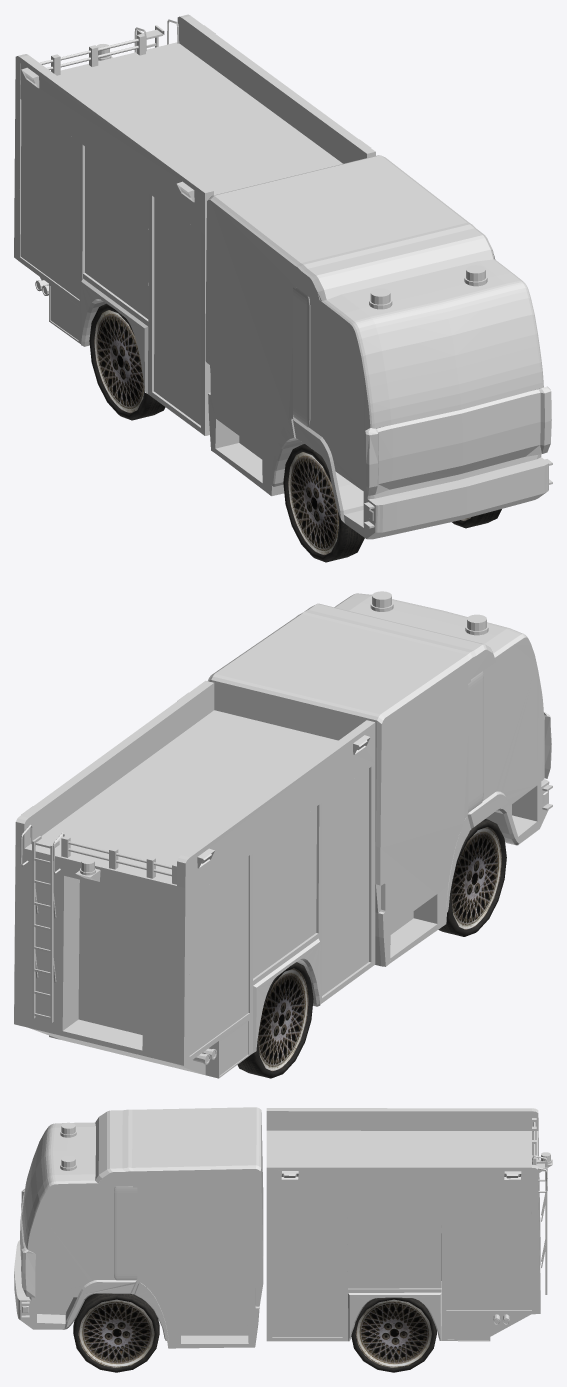
The model's file is Firetruck_Tire.fbx.
The picture shows the model from 3 angles, top to bottom: view 1: azimuth 30°, elevation 25°; view 2: azimuth 150°, elevation 25°; view 3: azimuth 270°, elevation 25°; orthographic projection. The views are drawn at different scales.
Parts seen in each view (by area): view 1: lf10_08; view 2: lf10_08; view 3: lf10_08, lf10_08.001.
Part boxes in pixels (x1,y1,x2,y2): lf10_08: [14, 14, 552, 562]; lf10_08: [14, 591, 552, 1078]; lf10_08: [14, 1107, 552, 1372]; lf10_08.001: [351, 1297, 436, 1372].
Size of the model in its own units: 99.72 by 150 by 352.
Materials: 11 (2 with a texture image).
